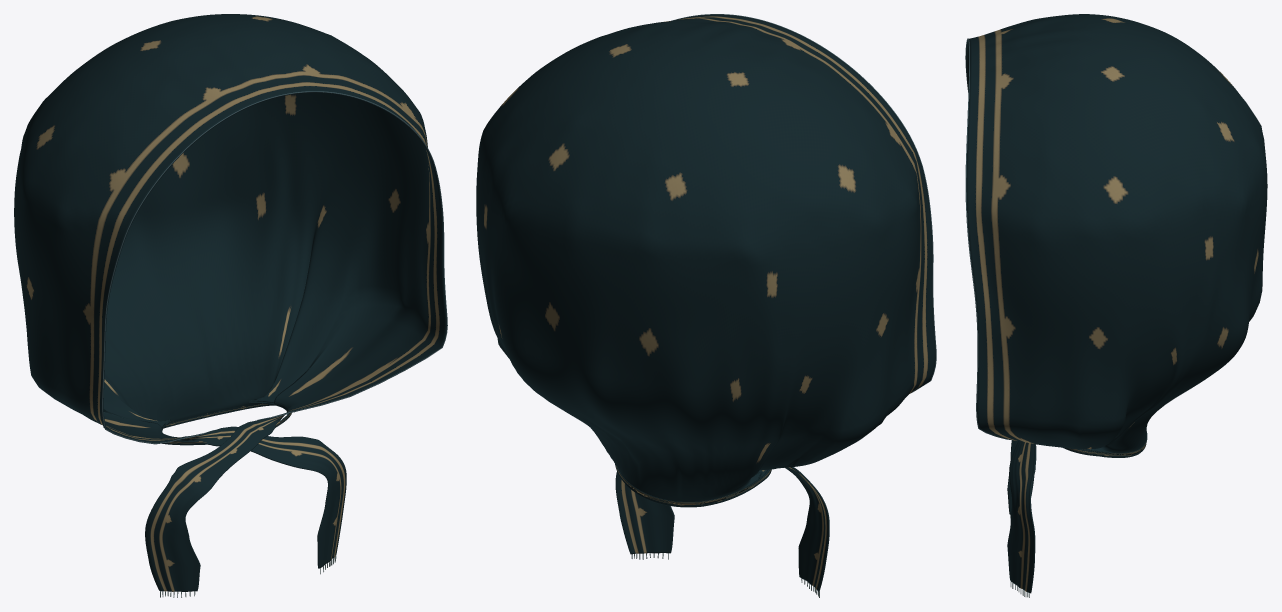
Rendered from Masculine-curly-top-tank-pashmina249-headgear.glb.
3 views of the same model, side by side, from view 1: azimuth 30°, elevation 25°; view 2: azimuth 150°, elevation 25°; view 3: azimuth 270°, elevation 25° (orthographic). The views are drawn at different scales.
Visible parts, largest first — view 1: 226 headgear / Headwear / continuous woven pashmina239, 226 headgear / Headwear / face edge239; view 2: 226 headgear / Headwear / continuous woven pashmina239, 226 headgear / Headwear / face edge239; view 3: 226 headgear / Headwear / continuous woven pashmina239, 226 headgear / Headwear / face edge239.
Boxes of the visible parts, box(x1,y1,x2,y2) form: 226 headgear / Headwear / continuous woven pashmina239: box(14, 14, 446, 591); 226 headgear / Headwear / face edge239: box(102, 91, 447, 444); 226 headgear / Headwear / continuous woven pashmina239: box(476, 14, 935, 591); 226 headgear / Headwear / face edge239: box(672, 14, 936, 393); 226 headgear / Headwear / continuous woven pashmina239: box(966, 14, 1267, 593); 226 headgear / Headwear / face edge239: box(965, 38, 1012, 440).
Bounding box in the file's own units: 1.08 × 1.45 × 0.762.
3 materials, 1 textured.
